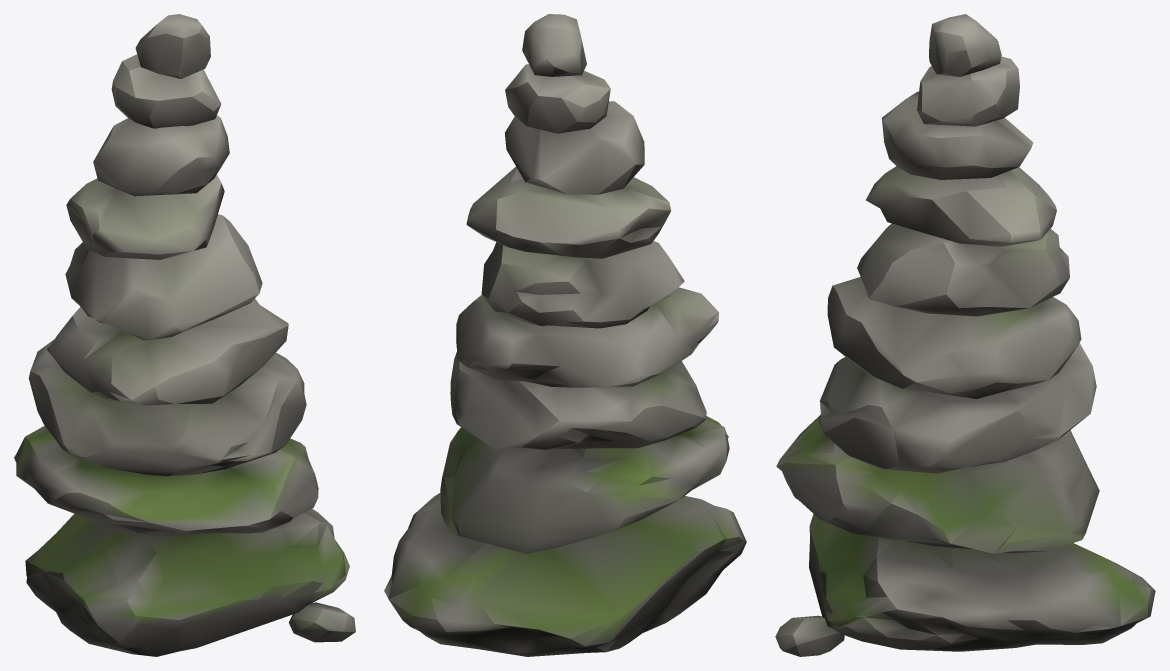
File: land-stoneCairn-v3.glb
The picture shows the model from 3 angles, left to right: view 1: azimuth 30°, elevation 25°; view 2: azimuth 150°, elevation 25°; view 3: azimuth 270°, elevation 25°; orthographic projection. The views are drawn at different scales.
Parts seen in each view (by area): view 1: 0_stoneCairn; view 2: 0_stoneCairn; view 3: 0_stoneCairn.
Boxes of the visible parts, x1,y1,x2,y2 form: 0_stoneCairn: (14, 14, 355, 656); 0_stoneCairn: (384, 14, 746, 656); 0_stoneCairn: (775, 14, 1155, 656).
Bounding box in the file's own units: 0.7711 × 1.54 × 0.8814.
